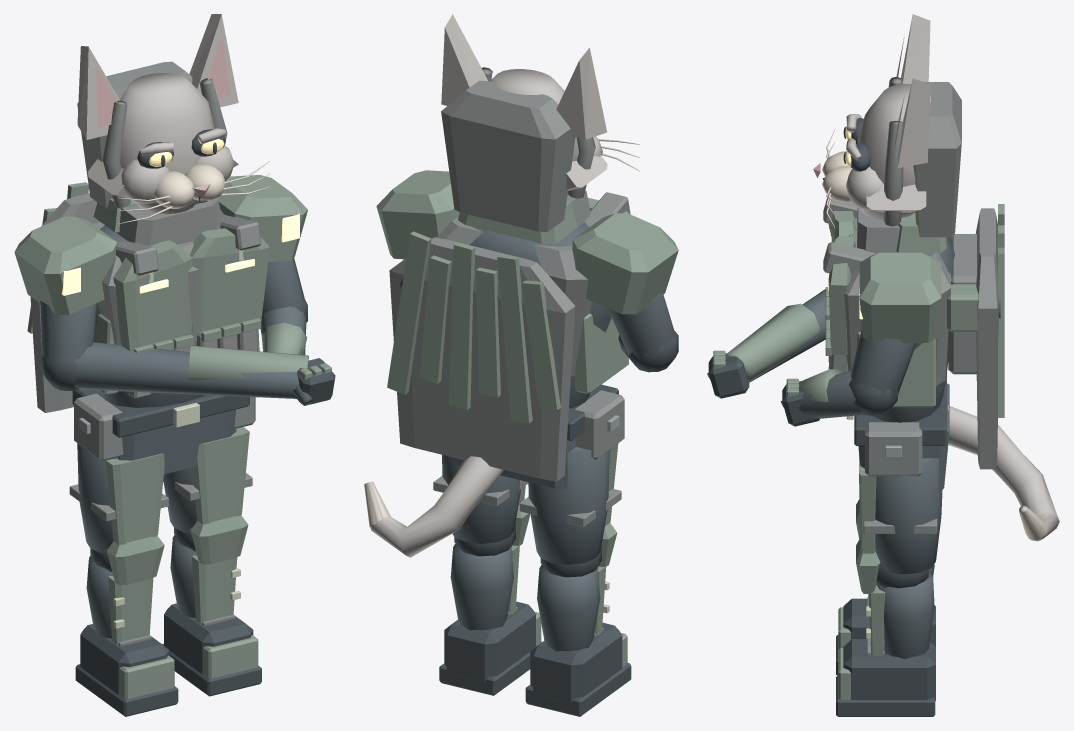
Rendered from cat_marksman.glb.
3 views of the same model, side by side, from view 1: azimuth 30°, elevation 25°; view 2: azimuth 150°, elevation 25°; view 3: azimuth 270°, elevation 25° (orthographic). The views are drawn at different scales.
Visible parts, largest first — view 1: forearm_L_63, shoulder_L_64, head_86, chest_plate_16, chest_plate_3, thigh_plate_33, thigh_plate_48, shoulder_R_75, pelvis_31, scarf_117, forearm_guard_L_67, boot_39 (+42 smaller); view 2: backpack_cloak_122, helmet_hood_back_114, shoulder_L_64, thigh_32, tail_118, boot_39, boot_54, shoulder_R_75, calf_52, calf_37, cloak_camo_strip_124, cloak_camo_strip_126 (+27 smaller); view 3: shoulder_R_75, thigh_47, helmet_hood_back_114, backpack_cloak_122, boot_54, tail_118, calf_52, forearm_guard_L_67, hip_pouch_27, head_86, upper_arm_R_73, backpack_120 (+32 smaller).
Boxes of the visible parts, box(x1,y1,x2,y2) form: forearm_L_63: box(74, 342, 299, 398); shoulder_L_64: box(14, 216, 117, 314); head_86: box(120, 73, 214, 214); chest_plate_16: box(190, 228, 269, 332); chest_plate_3: box(113, 240, 192, 351); thigh_plate_33: box(105, 453, 164, 544); thigh_plate_48: box(192, 427, 249, 524); shoulder_R_75: box(216, 175, 307, 261); pelvis_31: box(118, 409, 236, 474); scarf_117: box(116, 198, 222, 245); forearm_guard_L_67: box(188, 345, 308, 380); boot_39: box(80, 624, 169, 694); backpack_cloak_122: box(389, 237, 575, 481); helmet_hood_back_114: box(441, 80, 575, 232); shoulder_L_64: box(572, 213, 678, 314); thigh_32: box(528, 447, 609, 564); tail_118: box(366, 456, 503, 557); boot_39: box(530, 622, 622, 703); boot_54: box(444, 601, 535, 682); shoulder_R_75: box(376, 170, 459, 259); calf_52: box(450, 543, 513, 630); calf_37: box(537, 564, 600, 651); cloak_camo_strip_124: box(497, 254, 532, 423); cloak_camo_strip_126: box(449, 242, 475, 409); shoulder_R_75: box(859, 252, 941, 342); thigh_47: box(875, 458, 942, 574); helmet_hood_back_114: box(913, 82, 961, 237); backpack_cloak_122: box(975, 208, 999, 469); boot_54: box(843, 639, 935, 700); tail_118: box(948, 405, 1059, 541); calf_52: box(876, 571, 934, 658); forearm_guard_L_67: box(725, 303, 819, 382); hip_pouch_27: box(865, 422, 922, 476); head_86: box(857, 84, 930, 219); upper_arm_R_73: box(850, 329, 916, 398); backpack_120: box(948, 234, 976, 374).
Size of the model in its own units: 1.11 by 2.59 by 1.29.
